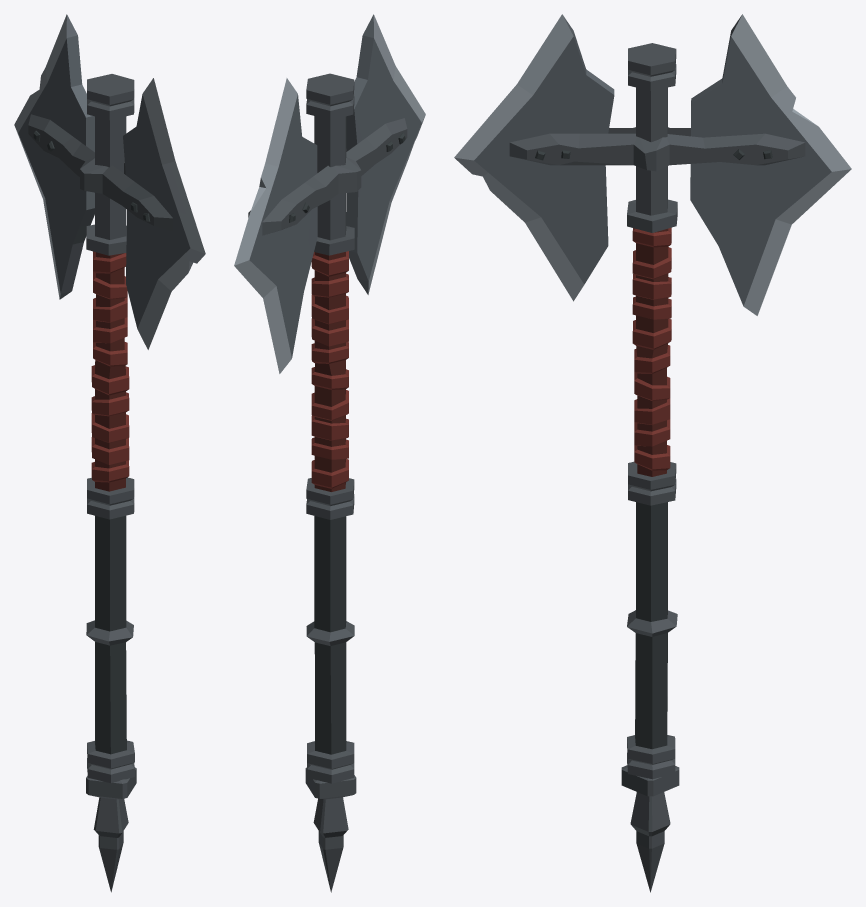
Rendered from kingdom_SM_Wep_Axe_05.gltf.
3 views of the same model, side by side, from view 1: azimuth 30°, elevation 25°; view 2: azimuth 150°, elevation 25°; view 3: azimuth 270°, elevation 25° (orthographic). The views are drawn at different scales.
Visible parts, largest first — view 1: SM_Wep_Axe_05; view 2: SM_Wep_Axe_05; view 3: SM_Wep_Axe_05.
Part boxes in pixels (x1,y1,x2,y2): SM_Wep_Axe_05: (14, 14, 205, 892); SM_Wep_Axe_05: (234, 14, 425, 892); SM_Wep_Axe_05: (454, 14, 851, 892).
Size of the model in its own units: 0.1106 by 1.56 by 0.6386.
Materials: 1 (1 with a texture image).
